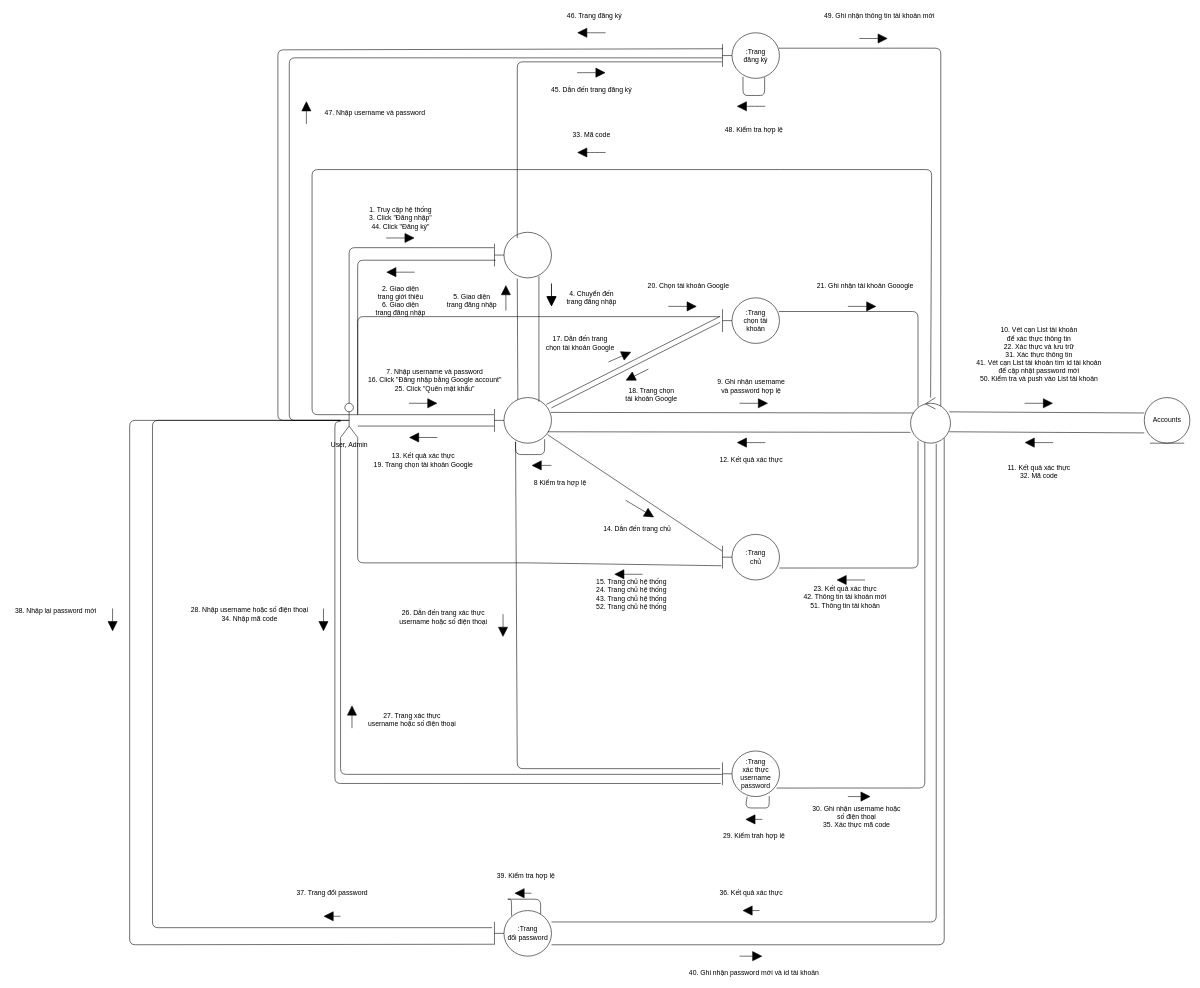
The diagram is 1200 pixels wide and 988 high, and some of its shapes have lost their labels. Each missing label, with the centre of its shape:
":Trang giới thiệu" goes at pixel 522 255.
":Trang đăng nhập" goes at pixel 522 420.
"Login Controller" goes at pixel 930 420.
